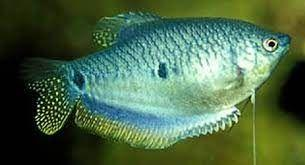Gourami: (20, 7, 292, 150)
